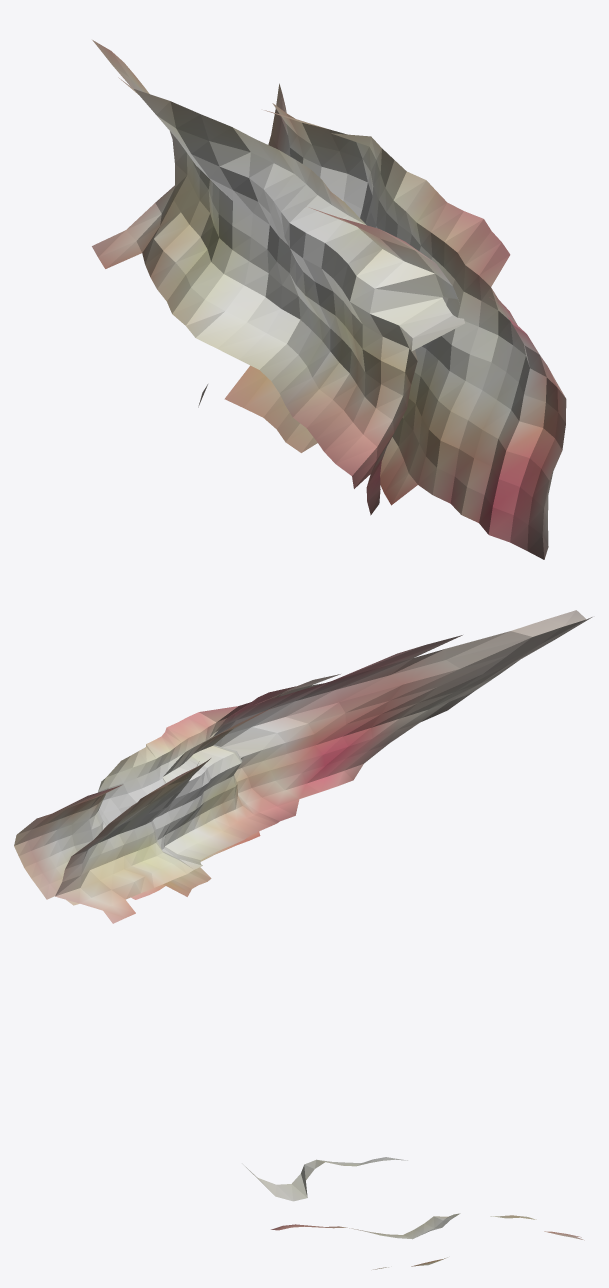
Rendered from entity-signal-light-5.glb.
3 renders of one model, top to bottom at view 1: azimuth 30°, elevation 25°; view 2: azimuth 150°, elevation 25°; view 3: azimuth 270°, elevation 25°, orthographic. The views are drawn at different scales.
Visible parts, largest first — view 1: geometry_0; view 2: geometry_0; view 3: geometry_0.
Part boxes in pixels (left/top/right/bottom): geometry_0: left=92, top=40, right=566, bottom=559; geometry_0: left=14, top=610, right=592, bottom=923; geometry_0: left=242, top=1157, right=584, bottom=1269.
Size of the model in its own units: 0.2591 by 0.1625 by 0.4024.
